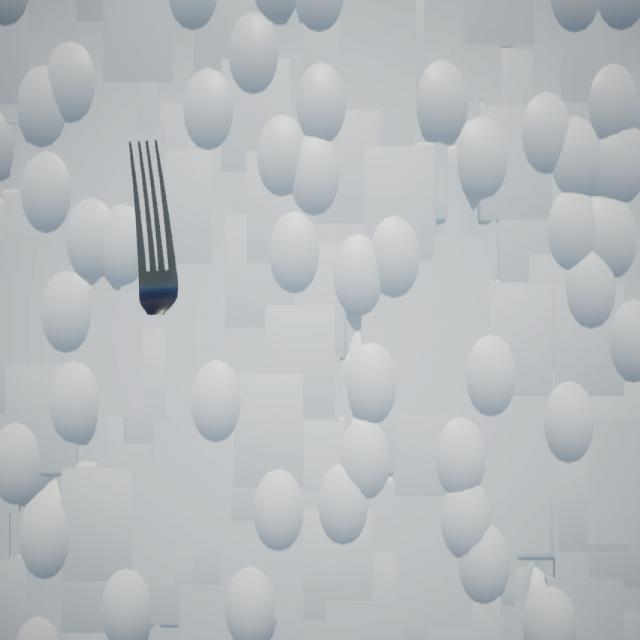top_folk: (130, 141, 179, 316)
